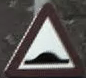Speed Breaker ahead: (3, 3, 80, 75)
